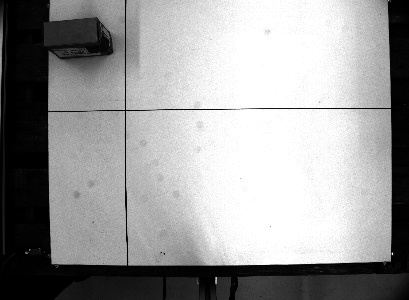b6: (38, 15, 116, 61)
